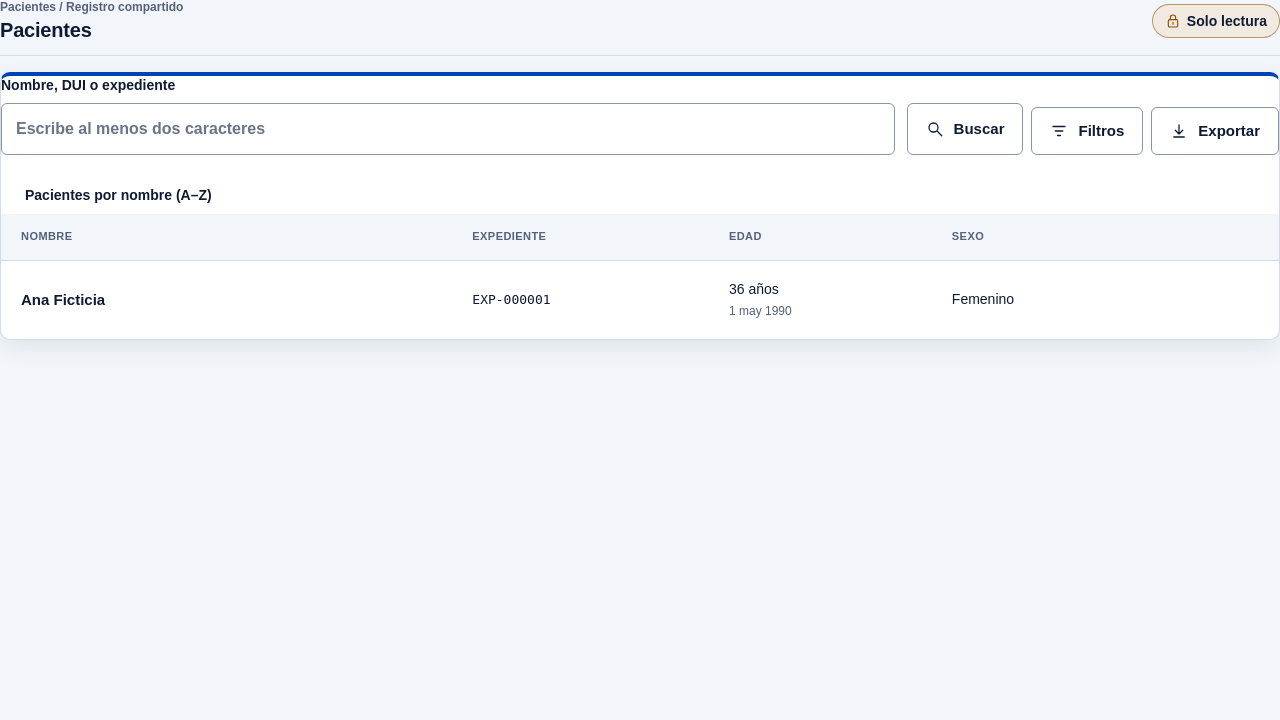
Test: ficha maestro-detalle › muestra pestañas según el permiso, avisa de los datos faltantes y lista las citas con su rango
What coordinates should you click on to do the following:
click the button with aria-label "Abrir ficha de Ana Ficticia"
I would click on:
 (63, 299)
Its box is [21, 288, 105, 311].
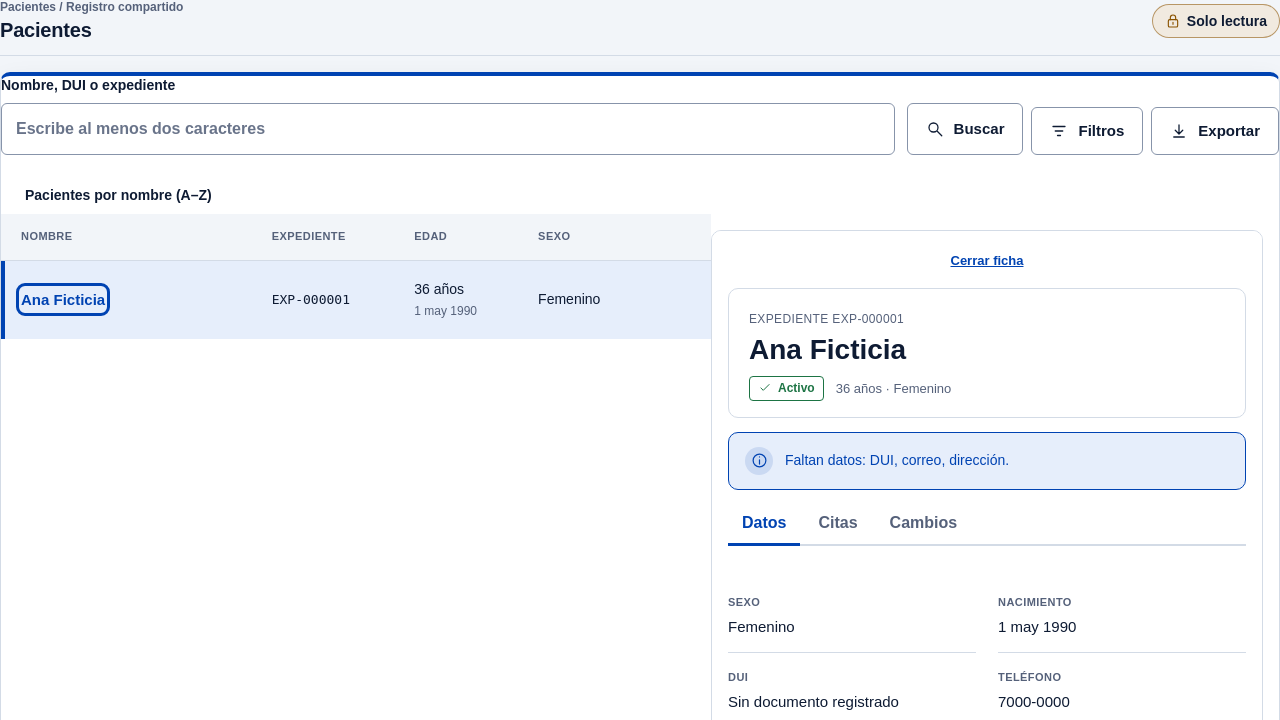
Expected: the tabs read "Datos", "Citas", "Cambios", in this order
Expected: the text "Faltan datos: DUI, correo, dirección." is shown, [785, 447, 1009, 471]
What coordinates should you click on to do the following:
click the tab "Citas"
I would click on:
 (838, 525)
Its box is [804, 504, 872, 546].
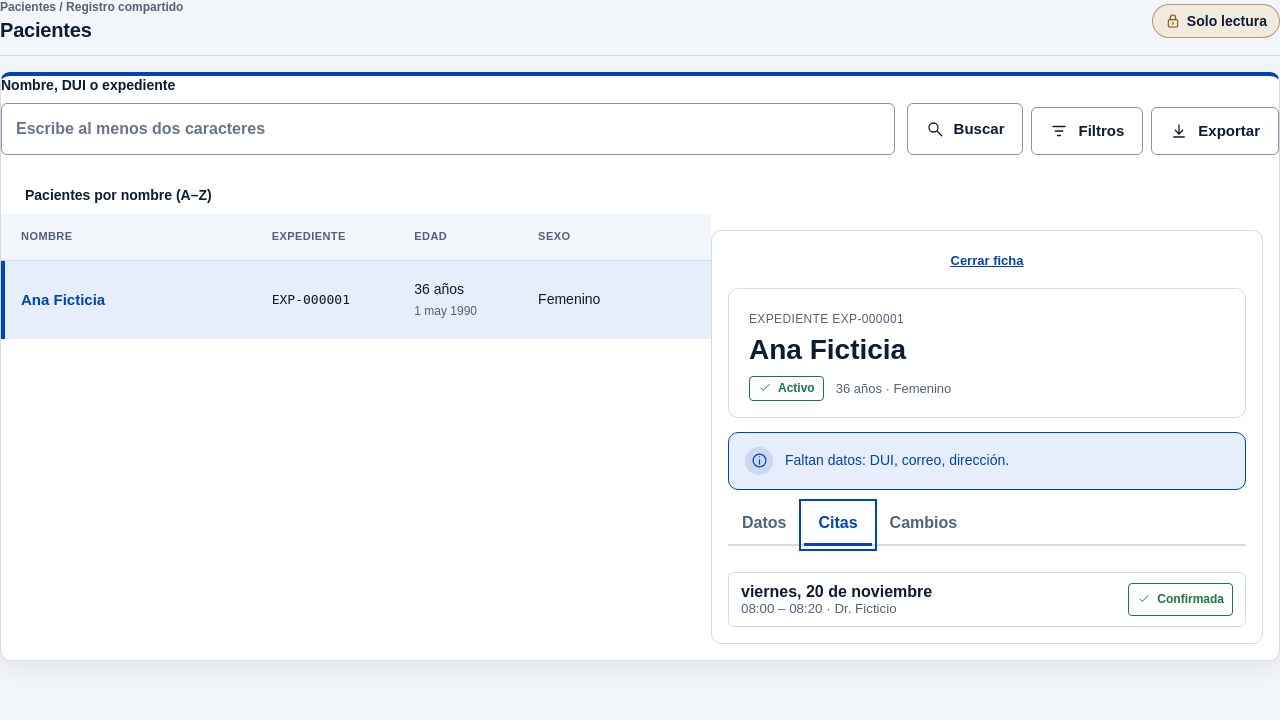
Expected: the text "08:00 – 08:20 · Dr. Ficticio" is shown, [741, 601, 897, 616]
